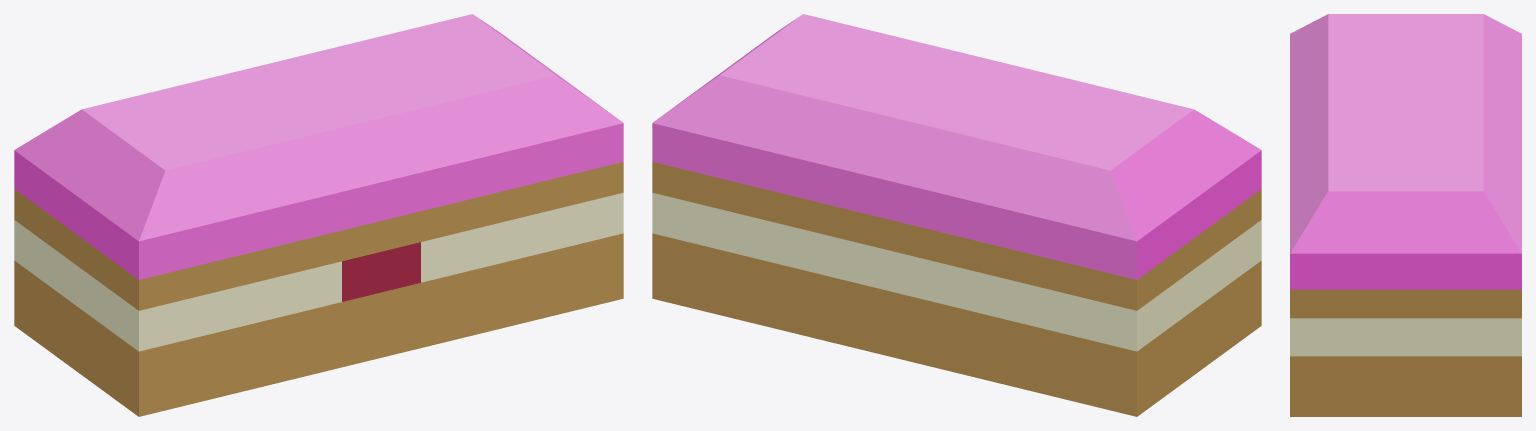
Rendered from CreamRoll1.glb.
The picture shows the model from 3 angles, left to right: view 1: azimuth 30°, elevation 25°; view 2: azimuth 150°, elevation 25°; view 3: azimuth 270°, elevation 25°; orthographic projection. The views are drawn at different scales.
Parts seen in each view (by area): view 1: SI_Food_Bakery_CreamRoll_01; view 2: SI_Food_Bakery_CreamRoll_01; view 3: SI_Food_Bakery_CreamRoll_01.
Boxes of the visible parts, x1,y1,x2,y2 form: SI_Food_Bakery_CreamRoll_01: [14, 14, 623, 416]; SI_Food_Bakery_CreamRoll_01: [652, 14, 1261, 416]; SI_Food_Bakery_CreamRoll_01: [1290, 14, 1521, 416].
Size of the model in its own units: 0.00563 by 0.00244 by 0.00251.
1 material, 1 textured.
